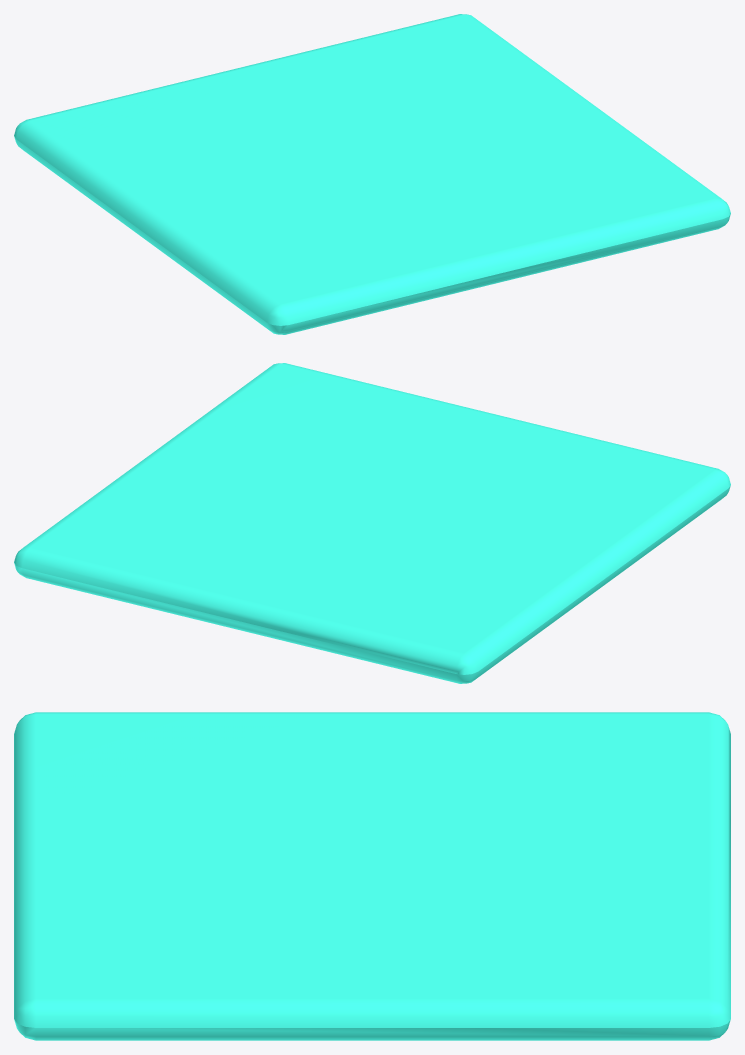
Rendered from SM_EG_Card_reader_screen_db376ae833.fbx.
3 renders of one model, top to bottom at view 1: azimuth 30°, elevation 25°; view 2: azimuth 150°, elevation 25°; view 3: azimuth 270°, elevation 25°, orthographic. The views are drawn at different scales.
Parts seen in each view (by area): view 1: SM_EG_Card_reader_screen_db376ae833; view 2: SM_EG_Card_reader_screen_db376ae833; view 3: SM_EG_Card_reader_screen_db376ae833.
Boxes of the visible parts, x1=… form: SM_EG_Card_reader_screen_db376ae833: x1=14, y1=14, x2=730, y2=334; SM_EG_Card_reader_screen_db376ae833: x1=14, y1=363, x2=730, y2=683; SM_EG_Card_reader_screen_db376ae833: x1=14, y1=712, x2=730, y2=1040.
Size of the model in its own units: 13 by 13 by 0.8.
